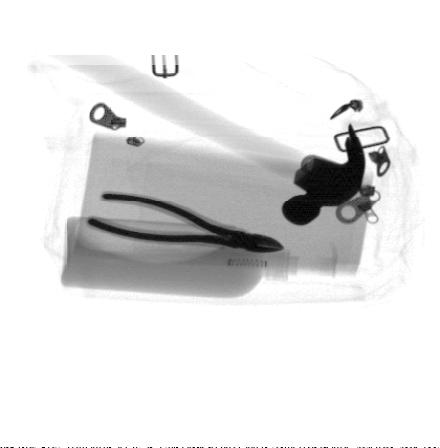Hammer: (56, 38, 367, 227)
Pliers: (86, 192, 286, 255)
